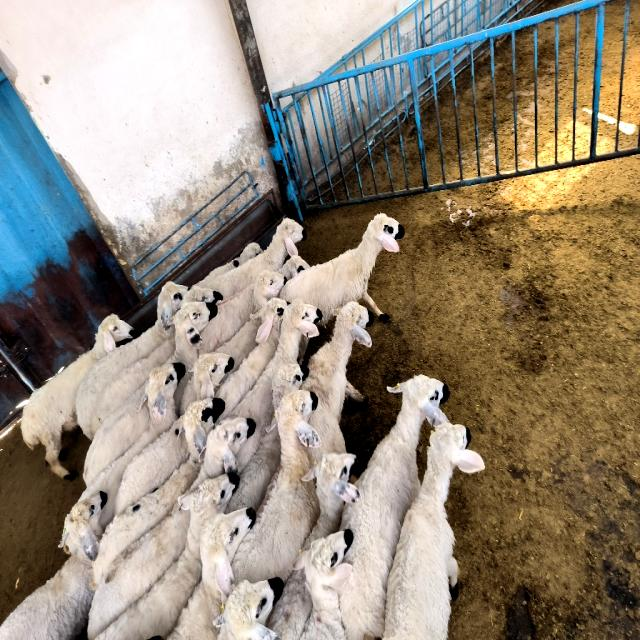sheep: (339, 375, 448, 639), (98, 473, 239, 638), (94, 398, 225, 574), (384, 423, 484, 638), (21, 313, 132, 478), (76, 282, 188, 438), (232, 390, 321, 583), (82, 363, 186, 528), (0, 490, 108, 638), (230, 300, 322, 471), (280, 213, 404, 324), (88, 505, 190, 637), (169, 508, 255, 640), (301, 302, 371, 464), (198, 218, 305, 298), (215, 298, 286, 418), (84, 375, 152, 482), (295, 528, 354, 640), (301, 453, 359, 549), (225, 422, 281, 512), (214, 577, 284, 640), (192, 418, 255, 488), (158, 300, 220, 370), (216, 318, 261, 371), (202, 243, 262, 281), (272, 363, 308, 408), (244, 270, 285, 309)
